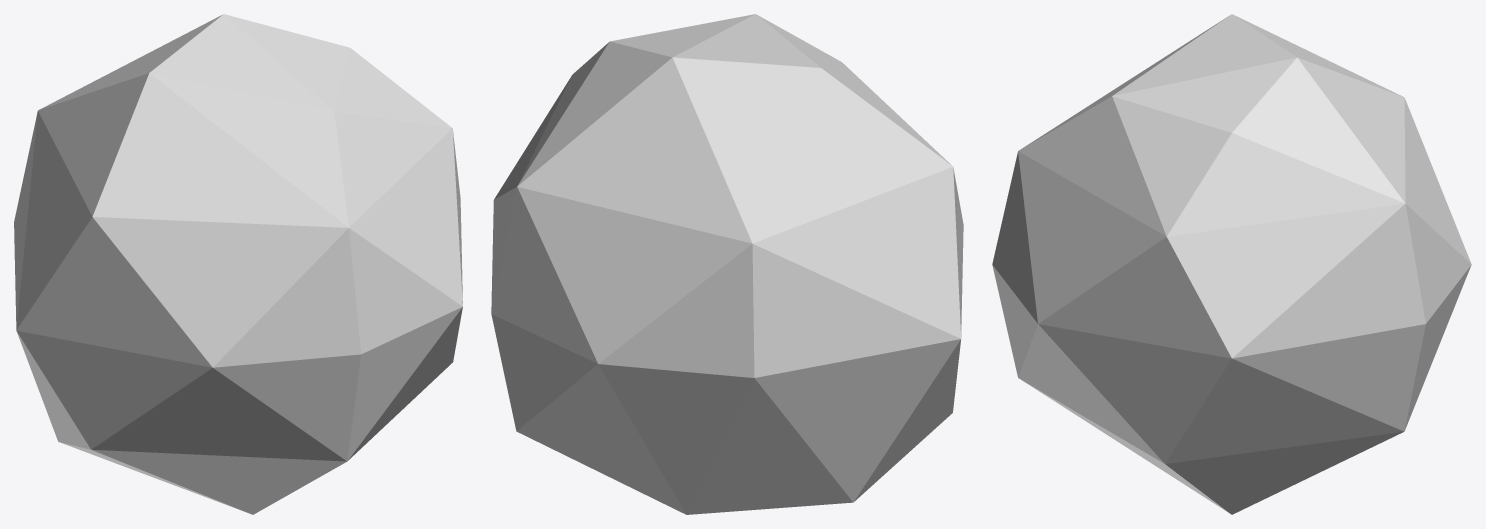
The model's file is Smoke Puff.fbx.
The picture shows the model from 3 angles, left to right: view 1: azimuth 30°, elevation 25°; view 2: azimuth 150°, elevation 25°; view 3: azimuth 270°, elevation 25°; orthographic projection. The views are drawn at different scales.
Parts seen in each view (by area): view 1: Smoke Puff; view 2: Smoke Puff; view 3: Smoke Puff.
Part boxes in pixels (box(x1,y1,x2,y2)): Smoke Puff: box(14, 14, 462, 514); Smoke Puff: box(491, 14, 963, 514); Smoke Puff: box(992, 14, 1471, 514).
Bounding box in the file's own units: 2.09 × 1.99 × 2.
